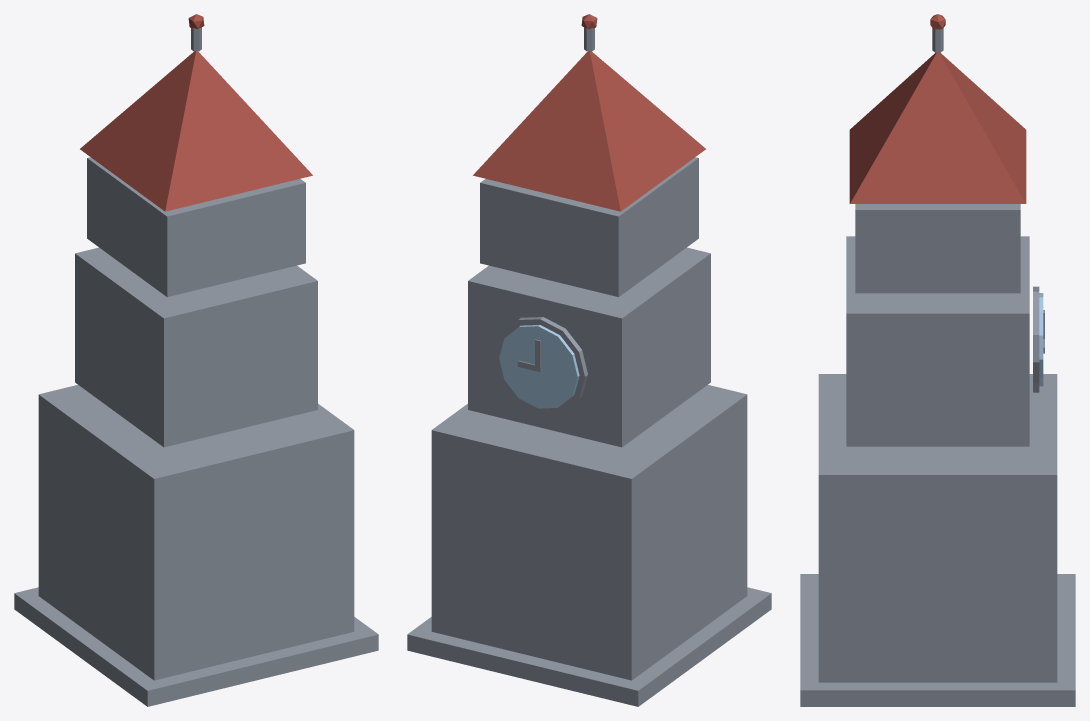
The model's file is clock_tower.fbx.
3 views of the same model, side by side, from view 1: azimuth 30°, elevation 25°; view 2: azimuth 150°, elevation 25°; view 3: azimuth 270°, elevation 25° (orthographic). The views are drawn at different scales.
Visible parts, largest first — view 1: clock_tower; view 2: clock_tower; view 3: clock_tower.
Boxes of the visible parts, x1,y1,x2,y2 form: clock_tower: (14, 14, 378, 706); clock_tower: (407, 14, 771, 706); clock_tower: (800, 14, 1075, 706).
Size of the model in its own units: 1885 by 4800 by 1885.
